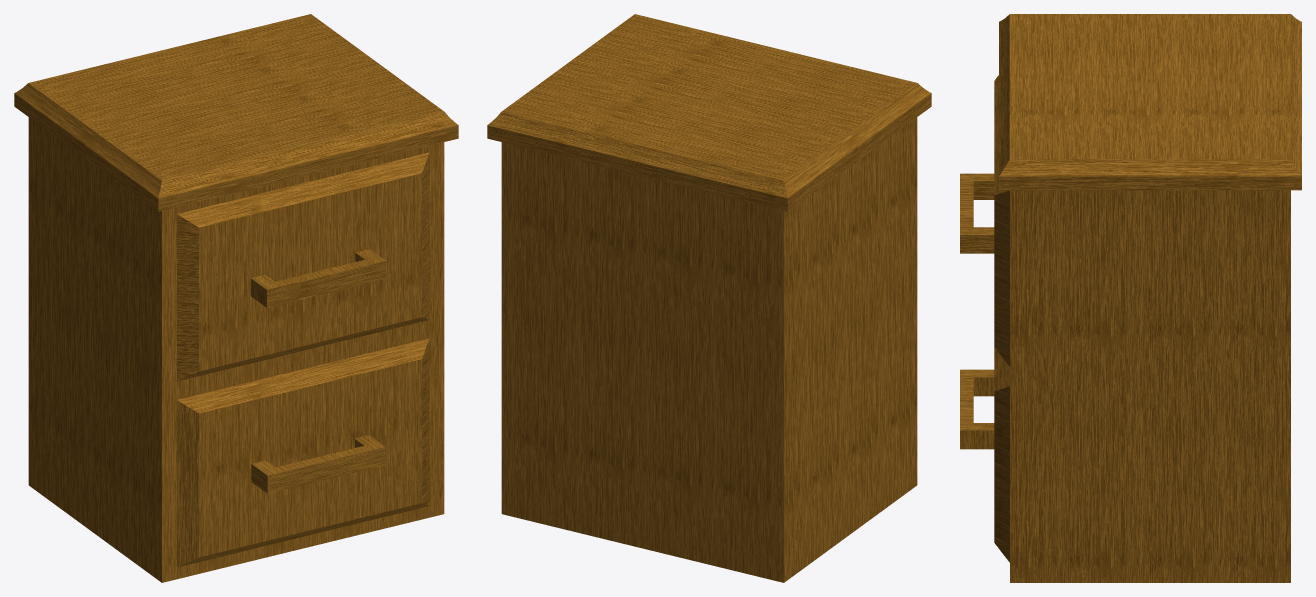
File: BedsideTable.FBX
3 views of the same model, side by side, from view 1: azimuth 30°, elevation 25°; view 2: azimuth 150°, elevation 25°; view 3: azimuth 270°, elevation 25° (orthographic). The views are drawn at different scales.
Visible parts, largest first — view 1: Box001; view 2: Box001; view 3: Box001.
Boxes of the visible parts, x1,y1,x2,y2 form: Box001: (14, 14, 458, 582); Box001: (487, 14, 931, 582); Box001: (960, 14, 1301, 582).
Size of the model in its own units: 26.62 by 34.07 by 24.91.
1 material, 1 textured.
